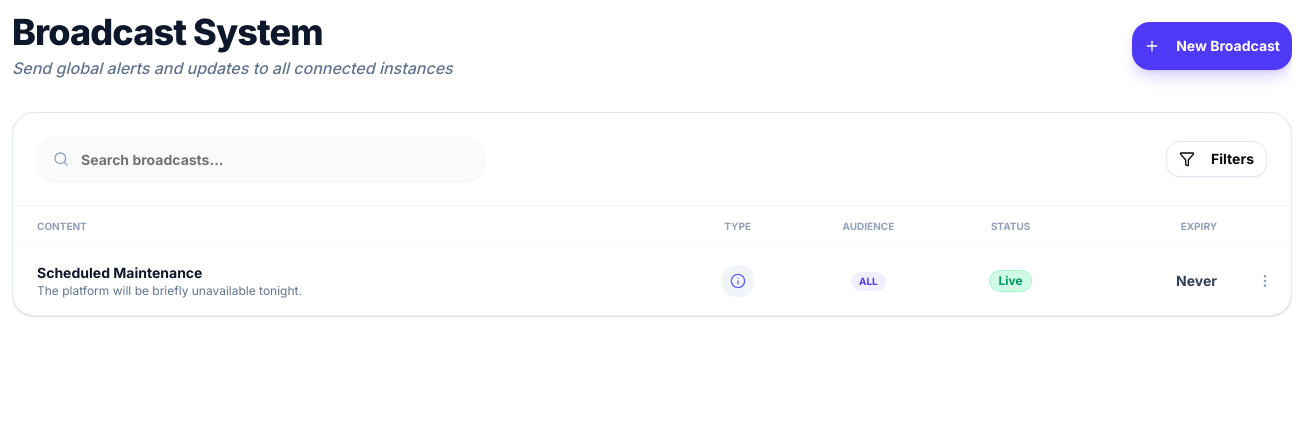
Scenario: BroadcastsTab permission gating › shows New Broadcast and the per-row action menu once send_notifications is granted
Check: the button "New Broadcast" is shown, box [1132,22,1292,70]
Click the 3rd button: x=1265, y=280 [1249,264,1281,296]
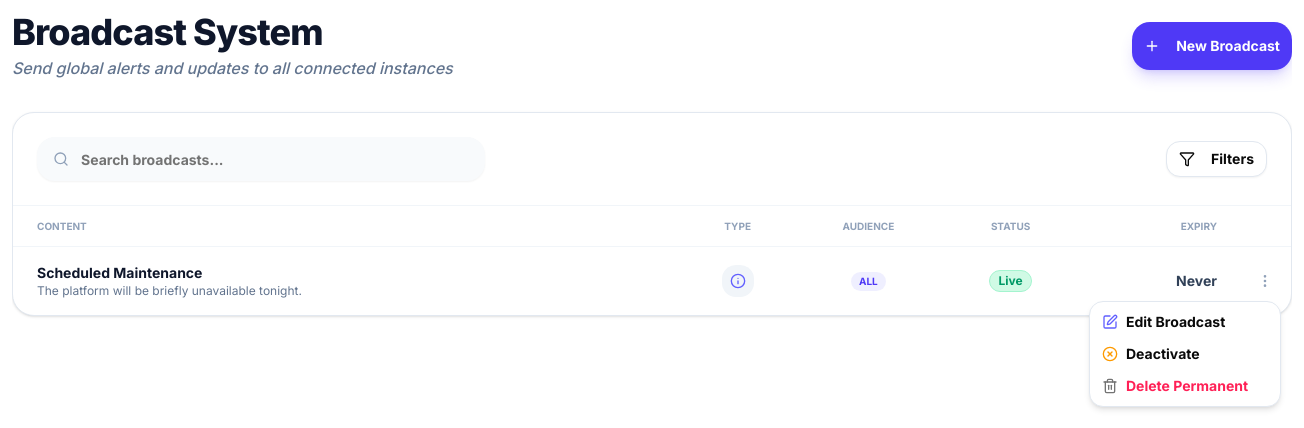
Check: the menu item "Edit Broadcast" is shown, box [1102,313,1225,330]
Check: the menu item "Delete Permanent" is shown, box [1102,377,1248,394]
